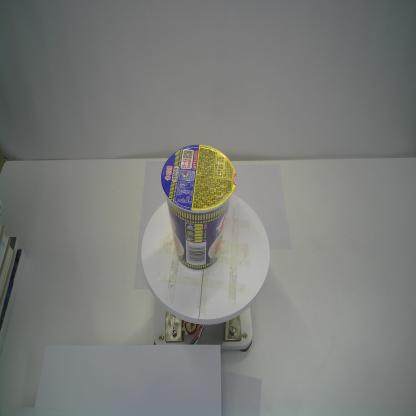Instant Noodles: (160, 144, 237, 272)
